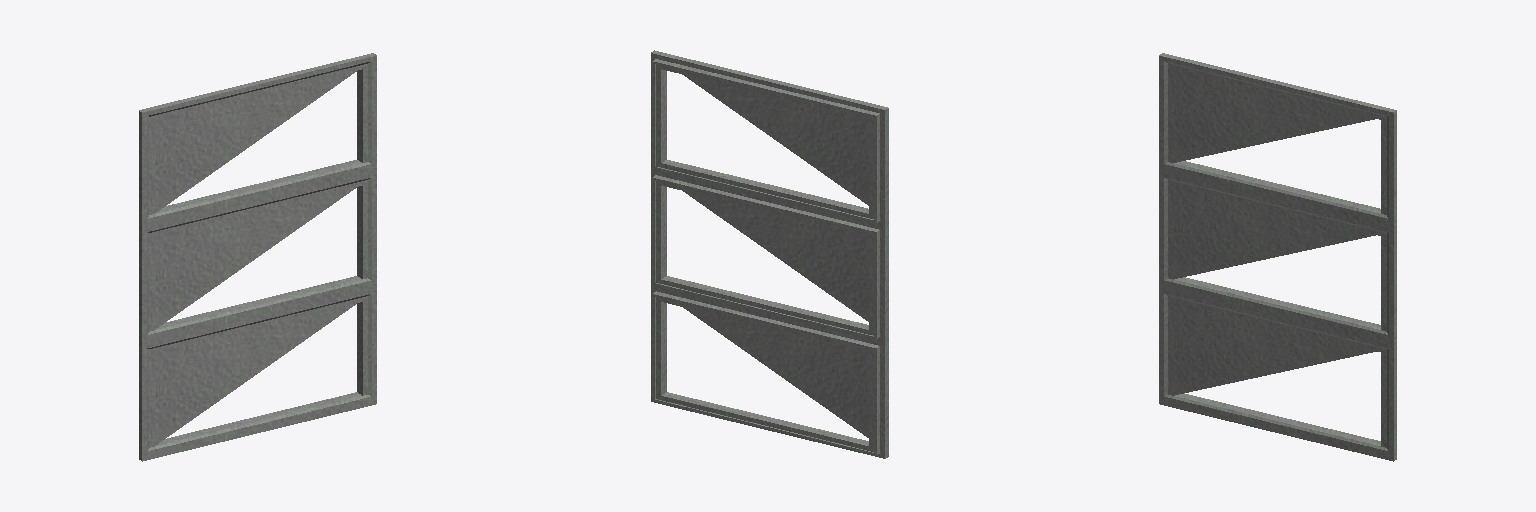
3 renders of one model, left to right at view 1: azimuth 30°, elevation 25°; view 2: azimuth 150°, elevation 25°; view 3: azimuth 330°, elevation 25°, orthographic.
Visible parts, largest first — view 1: baseV:Mesh2Window_Awning_43_5x26_Opened1Group1Model1; view 2: baseV:Mesh2Window_Awning_43_5x26_Opened1Group1Model1; view 3: baseV:Mesh2Window_Awning_43_5x26_Opened1Group1Model1.
Part boxes in pixels (x1,y1,x2,y2): baseV:Mesh2Window_Awning_43_5x26_Opened1Group1Model1: (139, 53, 376, 461); baseV:Mesh2Window_Awning_43_5x26_Opened1Group1Model1: (651, 50, 888, 458); baseV:Mesh2Window_Awning_43_5x26_Opened1Group1Model1: (1159, 53, 1396, 461).
Bounding box in the file's own units: 0.9863 × 1.4 × 0.0508.
1 materials, 1 textured.